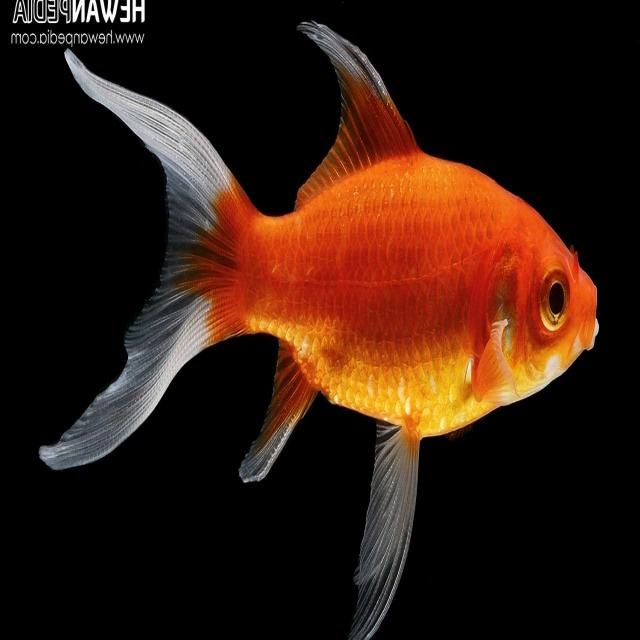GoldFish: (42, 24, 598, 634)
